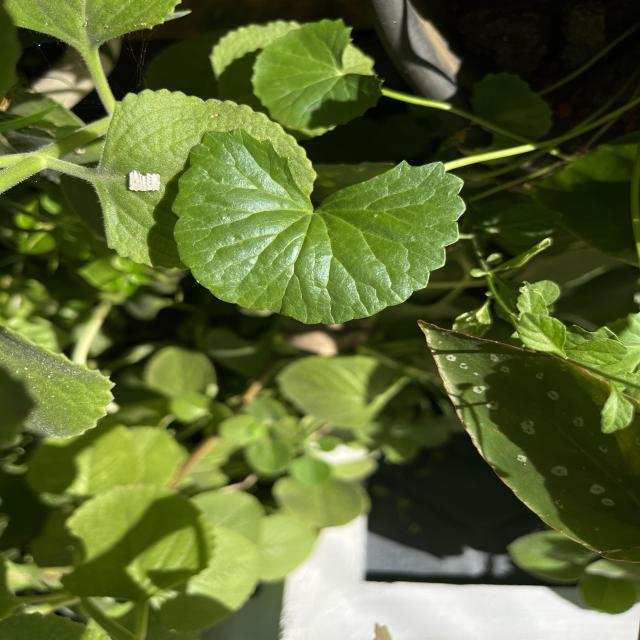Centella asiatica: (167, 125, 471, 329)
